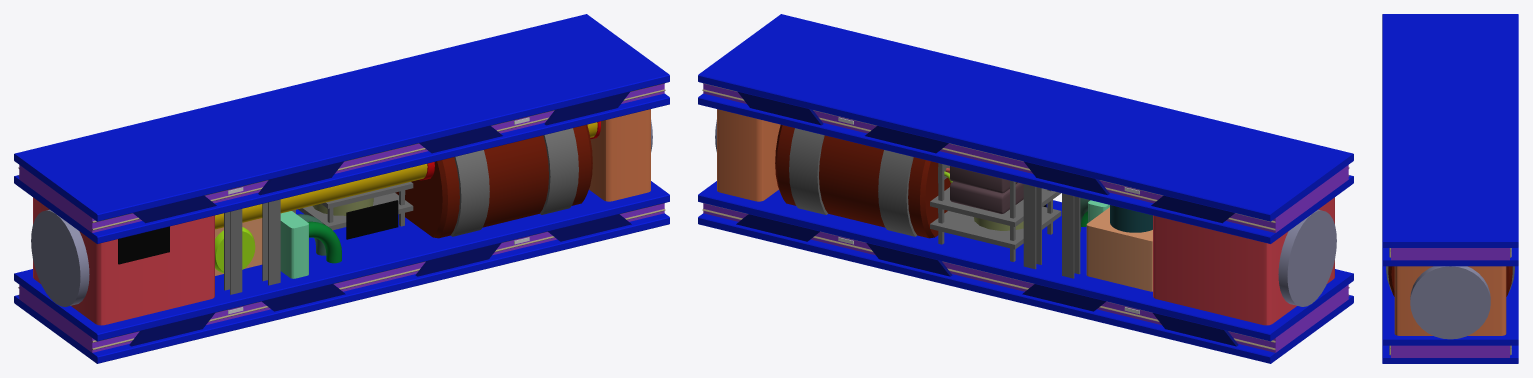
The model's file is BT_Floor_A_01.fbx.
3 views of the same model, side by side, from view 1: azimuth 30°, elevation 25°; view 2: azimuth 150°, elevation 25°; view 3: azimuth 270°, elevation 25° (orthographic). The views are drawn at different scales.
Visible parts, largest first — view 1: BT_Floor_A_01; view 2: BT_Floor_A_01; view 3: BT_Floor_A_01.
Part boxes in pixels (left/top/right/bottom): BT_Floor_A_01: left=14, top=14, right=669, bottom=363; BT_Floor_A_01: left=698, top=14, right=1353, bottom=363; BT_Floor_A_01: left=1382, top=14, right=1518, bottom=363.
Size of the model in its own units: 800 by 200 by 202.
